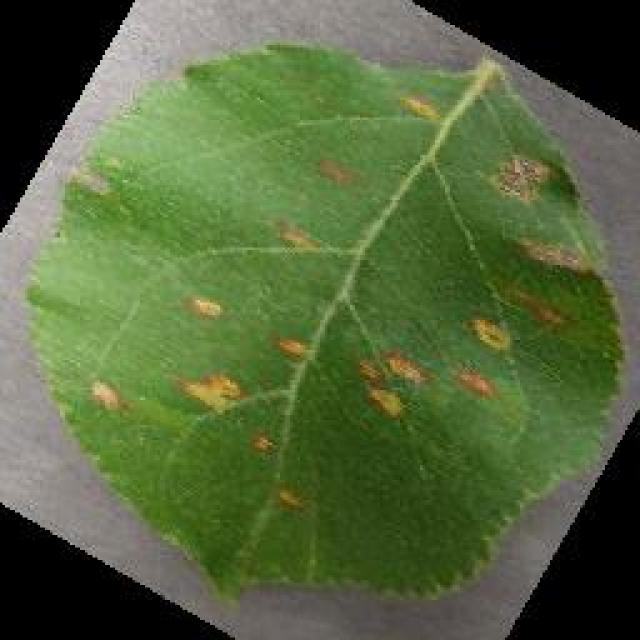apple rust disease: (22, 37, 628, 605)
